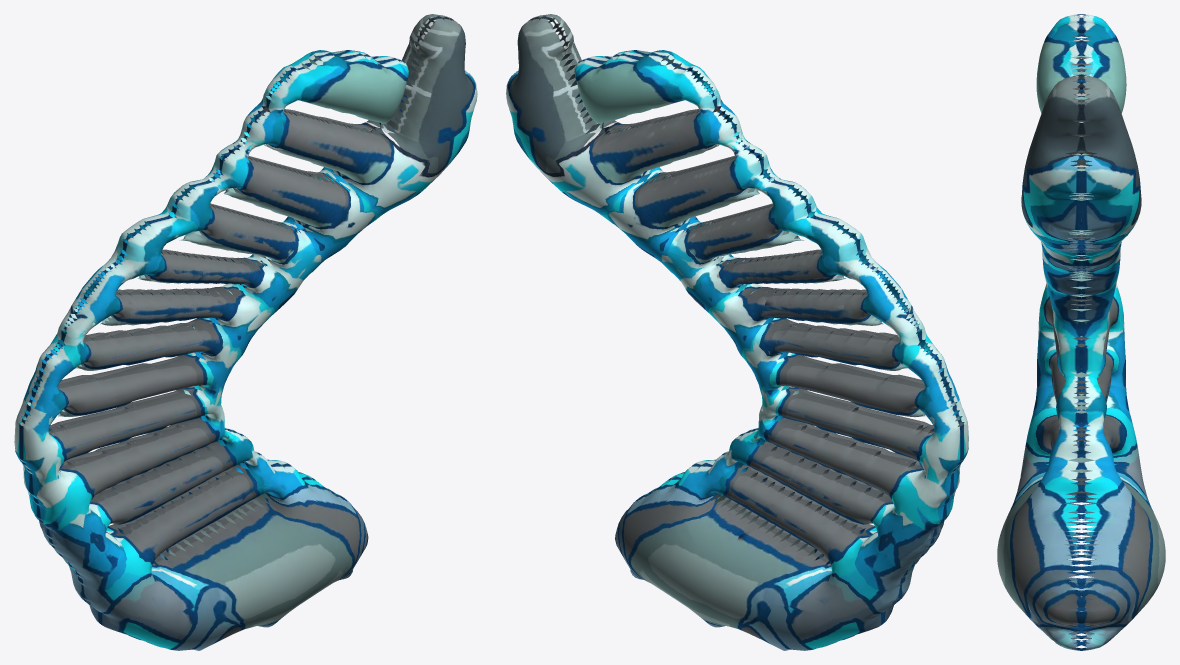
The model's file is curved_staircase.glb.
3 views of the same model, side by side, from view 1: azimuth 30°, elevation 25°; view 2: azimuth 150°, elevation 25°; view 3: azimuth 270°, elevation 25° (orthographic). The views are drawn at different scales.
Parts seen in each view (by area): view 1: curved_staircase; view 2: curved_staircase; view 3: curved_staircase.
Boxes of the visible parts, x1,y1,x2,y2 form: curved_staircase: [14, 14, 477, 650]; curved_staircase: [506, 14, 968, 650]; curved_staircase: [997, 14, 1165, 650].
Bounding box in the file's own units: 0.9866 × 1.18 × 0.2724.
Materials: 1 (1 with a texture image).
